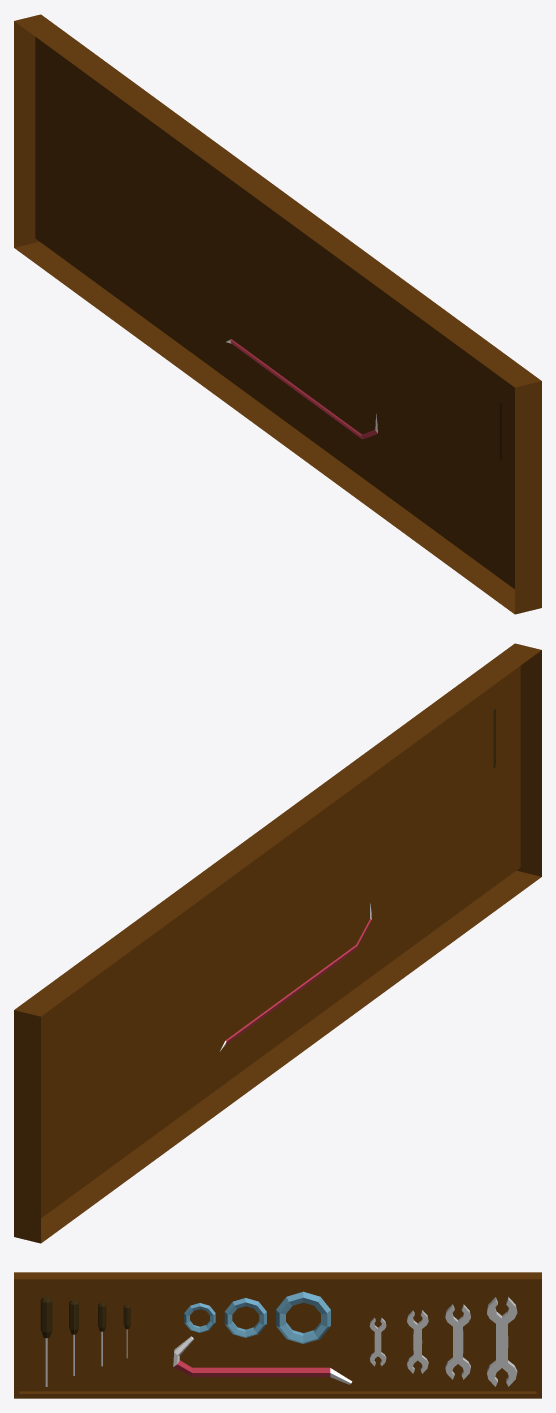
The model's file is DeskInstrumentsLowPoly.fbx.
3 views of the same model, one above another, from view 1: azimuth 30°, elevation 25°; view 2: azimuth 150°, elevation 25°; view 3: azimuth 270°, elevation 25° (orthographic). The views are drawn at different scales.
Parts seen in each view (by area): view 1: Cube, Cylinder; view 2: Cube, Cylinder; view 3: Cube, Cylinder, Torus, Cube.009, Cube.010, Torus.001, Cube.011, Cube.002, Torus.002, Cube.012, Cube.004, Cube.006 (+1 smaller).
Boxes of the visible parts, box(x1,y1,x2,y2) form: Cube: box(14, 14, 541, 614); Cylinder: box(226, 339, 377, 439); Cube: box(14, 643, 541, 1243); Cylinder: box(220, 903, 371, 1051); Cube: box(14, 1272, 541, 1398); Cylinder: box(173, 1336, 352, 1384); Torus: box(276, 1291, 330, 1343); Cube.009: box(487, 1297, 517, 1386); Cube.010: box(445, 1304, 470, 1379); Torus.001: box(224, 1298, 266, 1337); Cube.011: box(407, 1310, 428, 1373); Cube.002: box(40, 1296, 52, 1386); Torus.002: box(184, 1303, 215, 1332); Cube.012: box(369, 1317, 386, 1366); Cube.004: box(69, 1299, 78, 1375); Cube.006: box(98, 1302, 106, 1366).
Size of the model in its own units: 32.44 by 200 by 800.
1 material, 1 textured.
